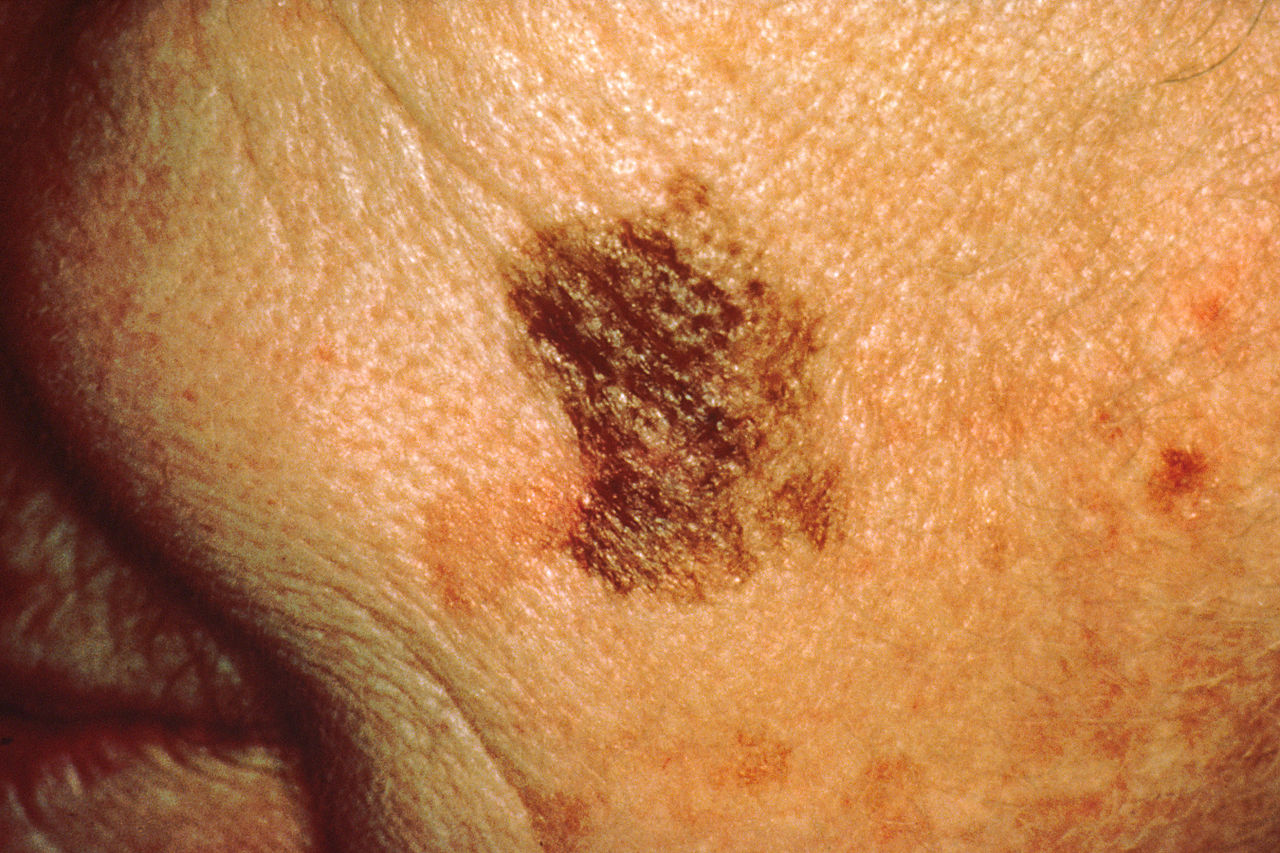melanoma: (397, 106, 943, 622)
